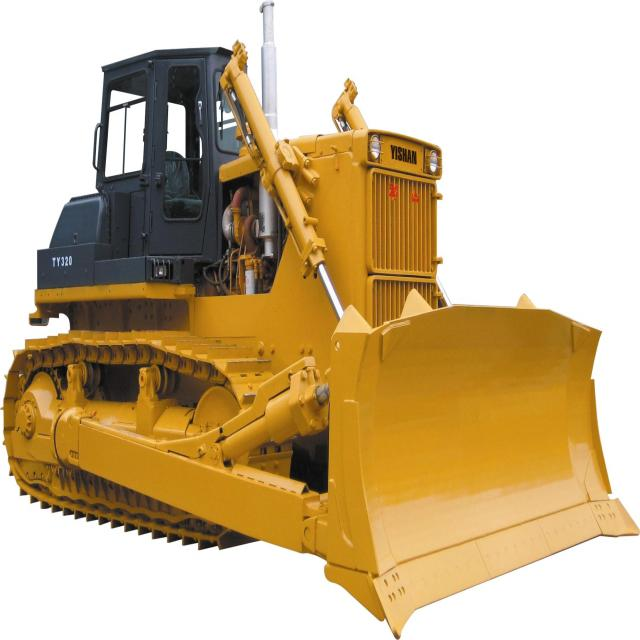Bulldozer: (3, 33, 640, 635)
